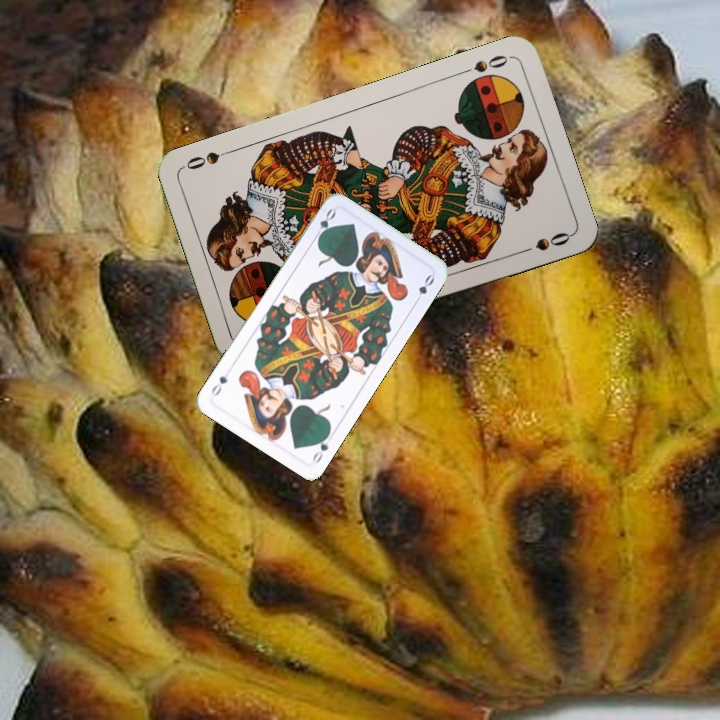GO: (310, 205, 338, 244), (308, 428, 336, 466)
SO: (455, 51, 513, 77)
